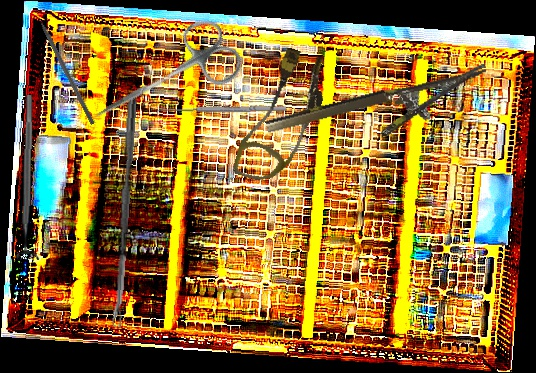Cannula: (231, 42, 335, 192)
Fixation Ring: (14, 94, 43, 261)
Hook Surgical: (32, 7, 97, 125), (156, 103, 287, 120)
Iris Scissors: (78, 11, 249, 150)
Needle Holder: (264, 63, 496, 164)
Surgical Spoon: (110, 94, 138, 328)
